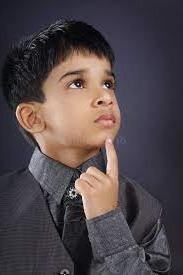Human: (0, 12, 168, 275)
